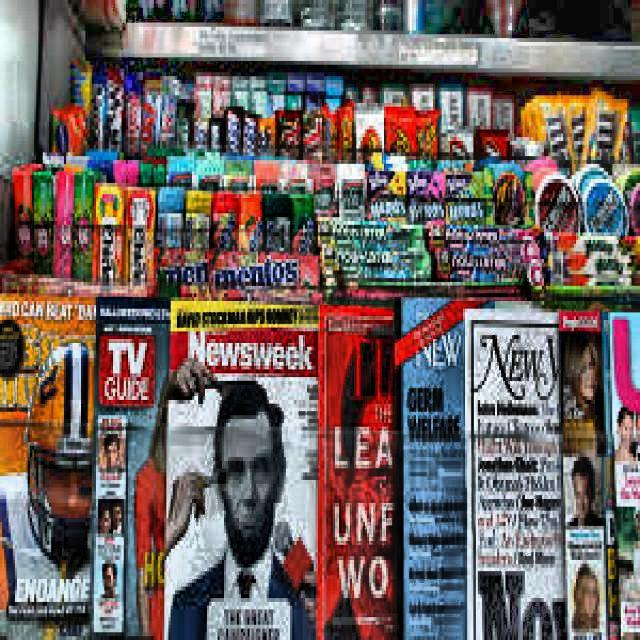Paper: (162, 294, 318, 637), (392, 294, 493, 637), (461, 305, 563, 636), (0, 293, 87, 636), (316, 297, 399, 636), (90, 294, 167, 637), (557, 305, 604, 636), (599, 309, 638, 636)
